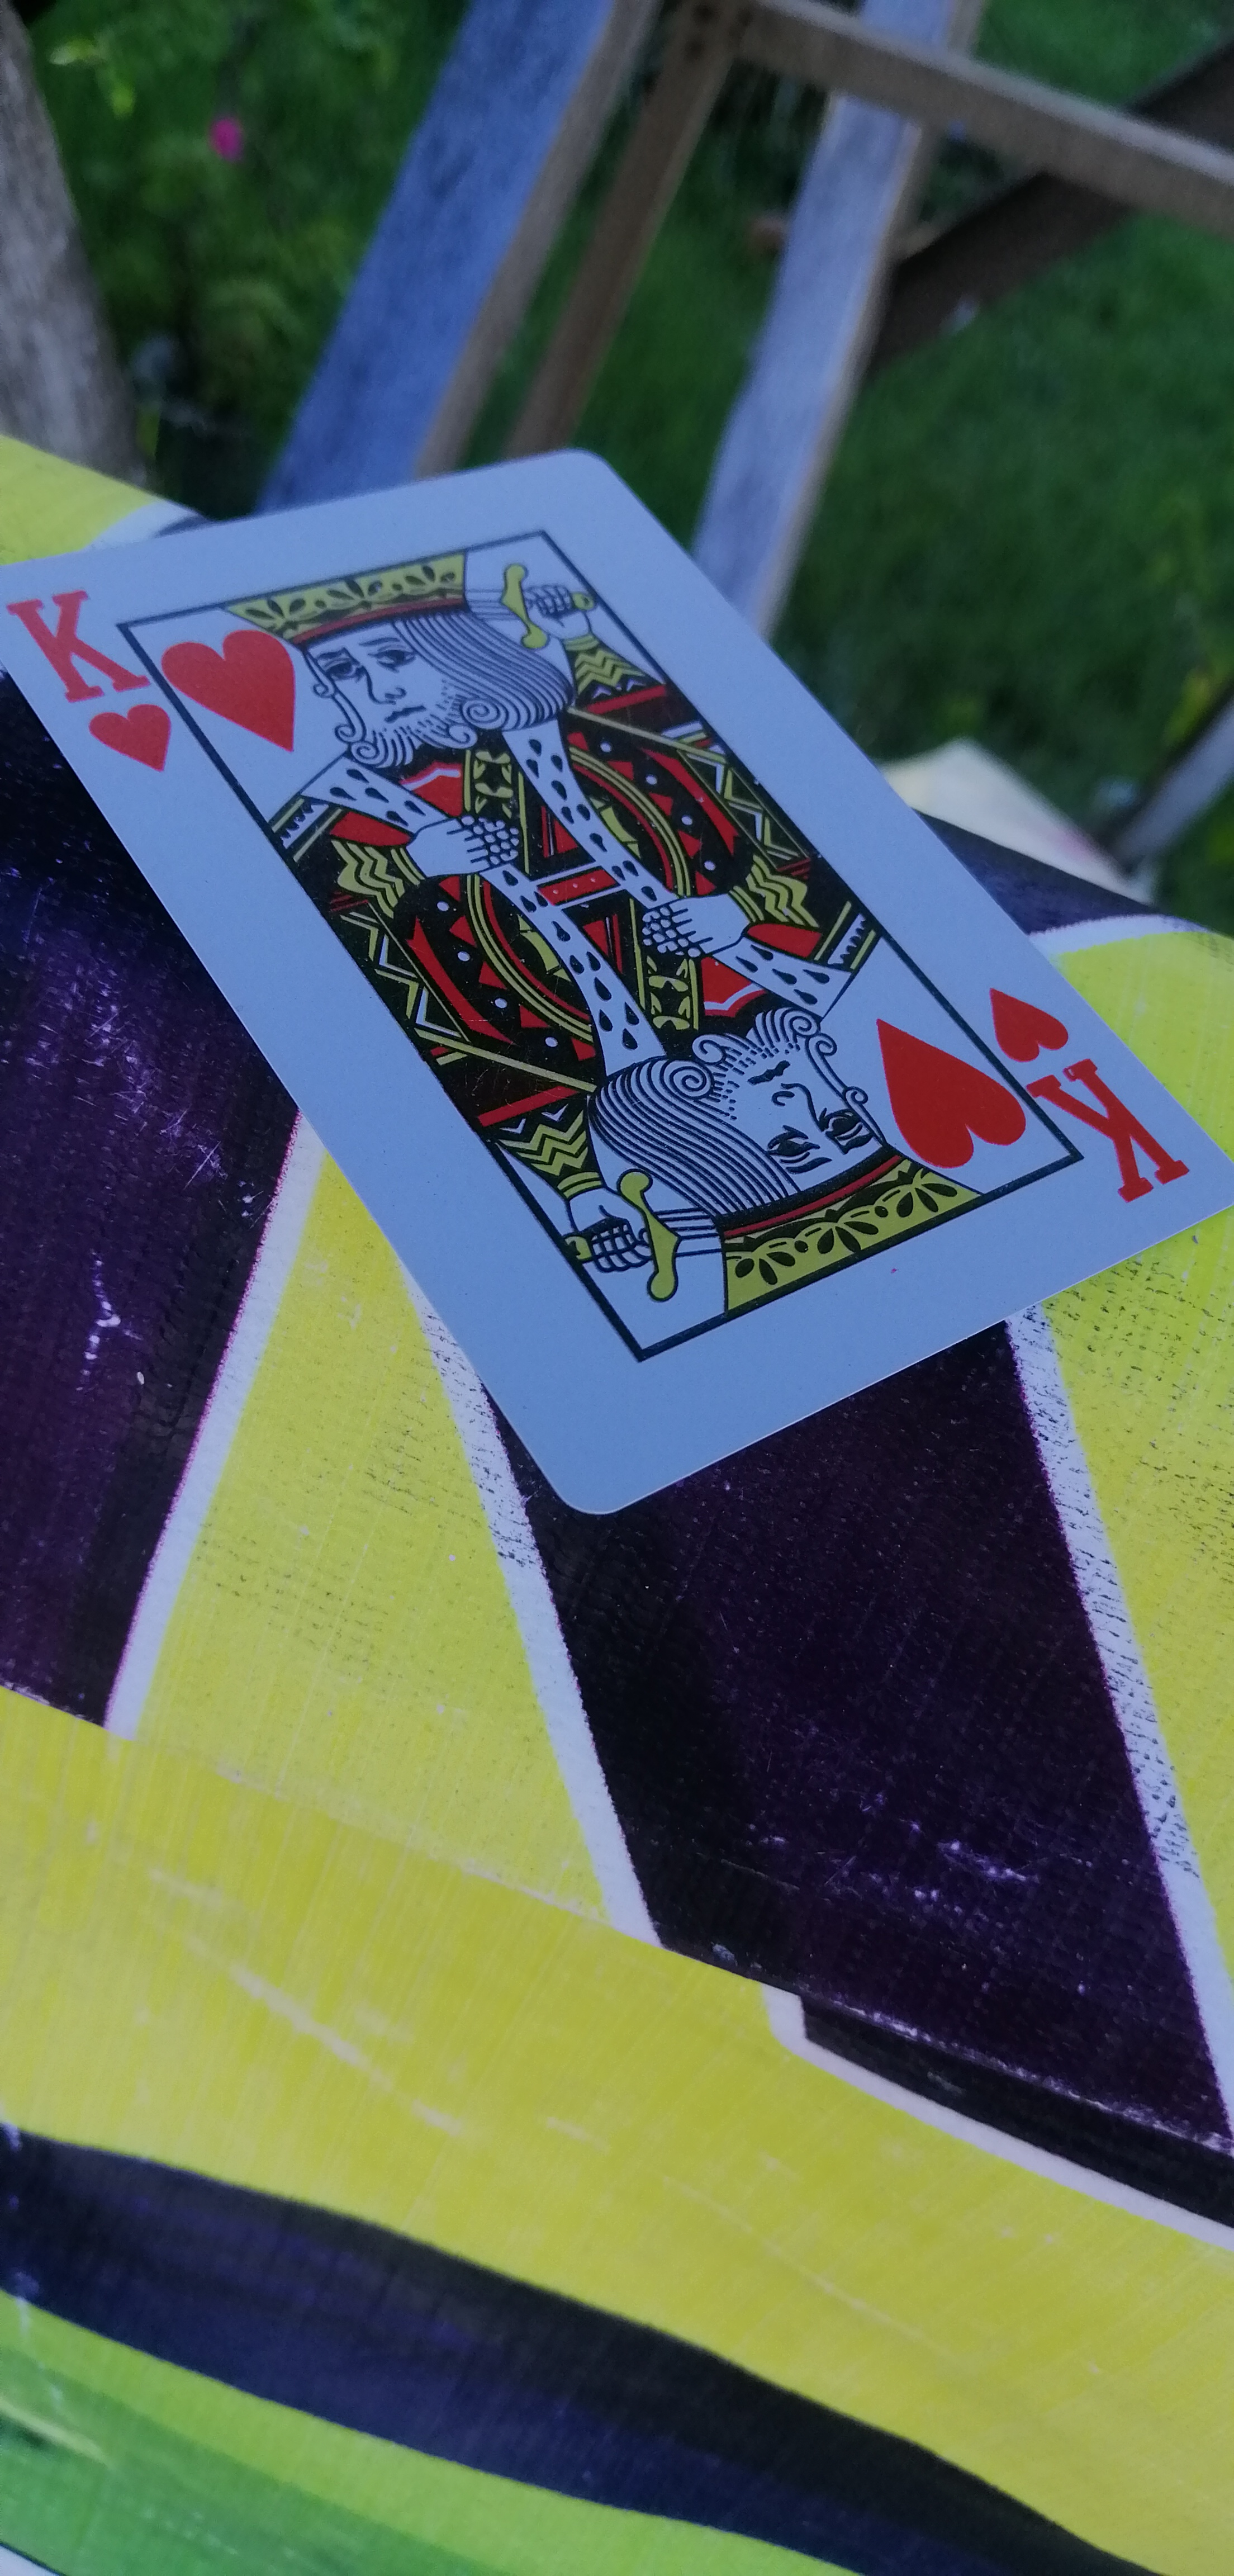king: (0, 463, 1229, 1470)
